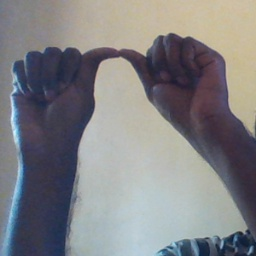A: (9, 33, 228, 155)
